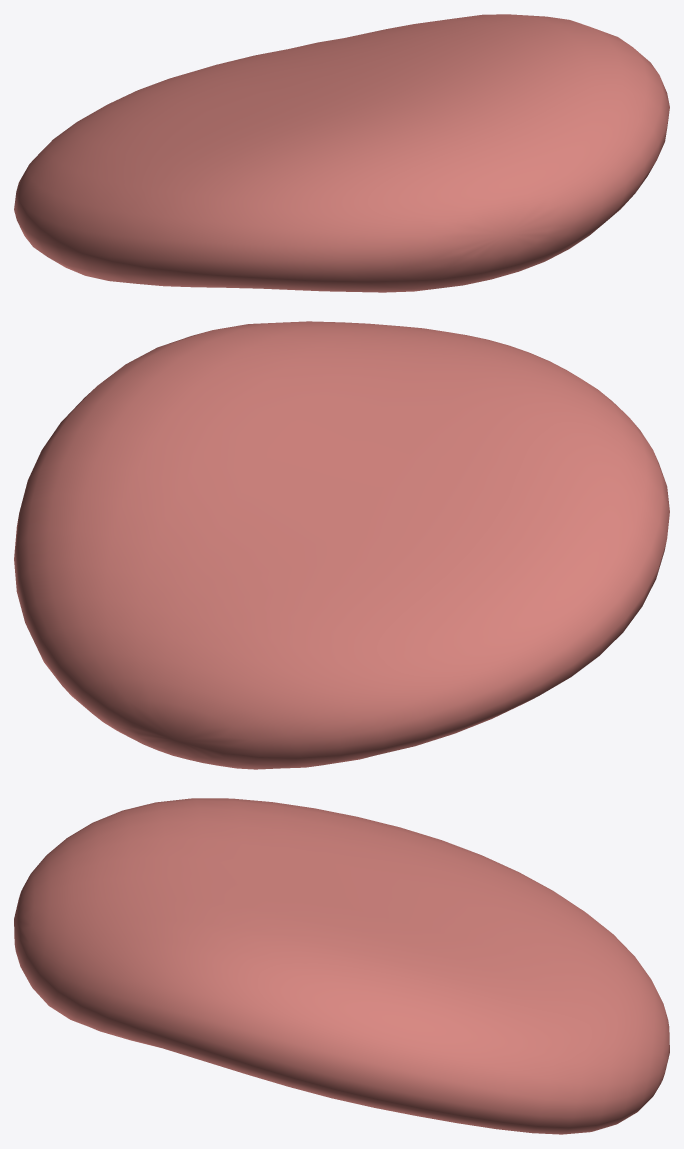
The picture shows the model from 3 angles, top to bottom: view 1: azimuth 30°, elevation 25°; view 2: azimuth 150°, elevation 25°; view 3: azimuth 270°, elevation 25°; orthographic projection.
Visible parts, largest first — view 1: ZA_9fdb41ced3b07d60; view 2: ZA_9fdb41ced3b07d60; view 3: ZA_9fdb41ced3b07d60.
Boxes of the visible parts, box(x1,y1,x2,y2) form: ZA_9fdb41ced3b07d60: box(14, 14, 669, 292); ZA_9fdb41ced3b07d60: box(14, 321, 669, 769); ZA_9fdb41ced3b07d60: box(14, 798, 669, 1134).
Size of the model in its own units: 0.0231 by 0.00919 by 0.0232.
